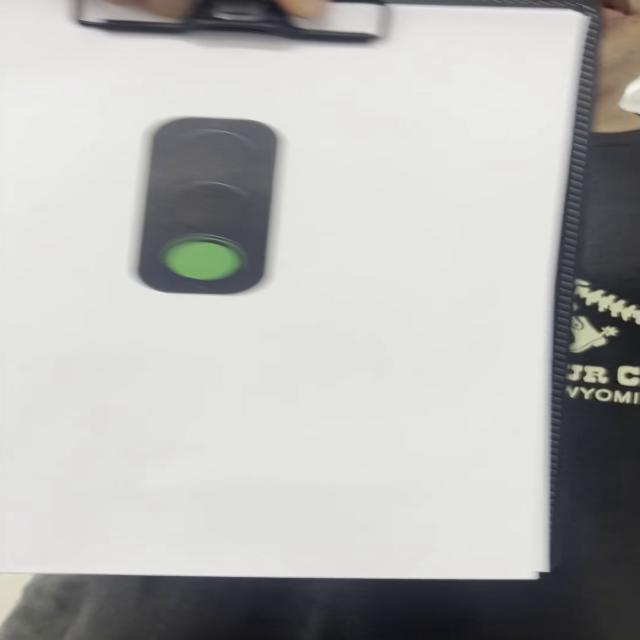green: (137, 115, 278, 299)
